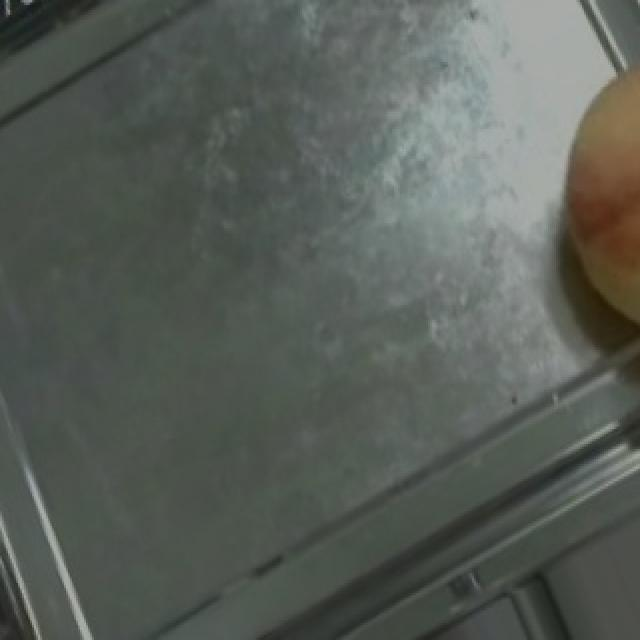Fruit: (512, 27, 640, 367)
